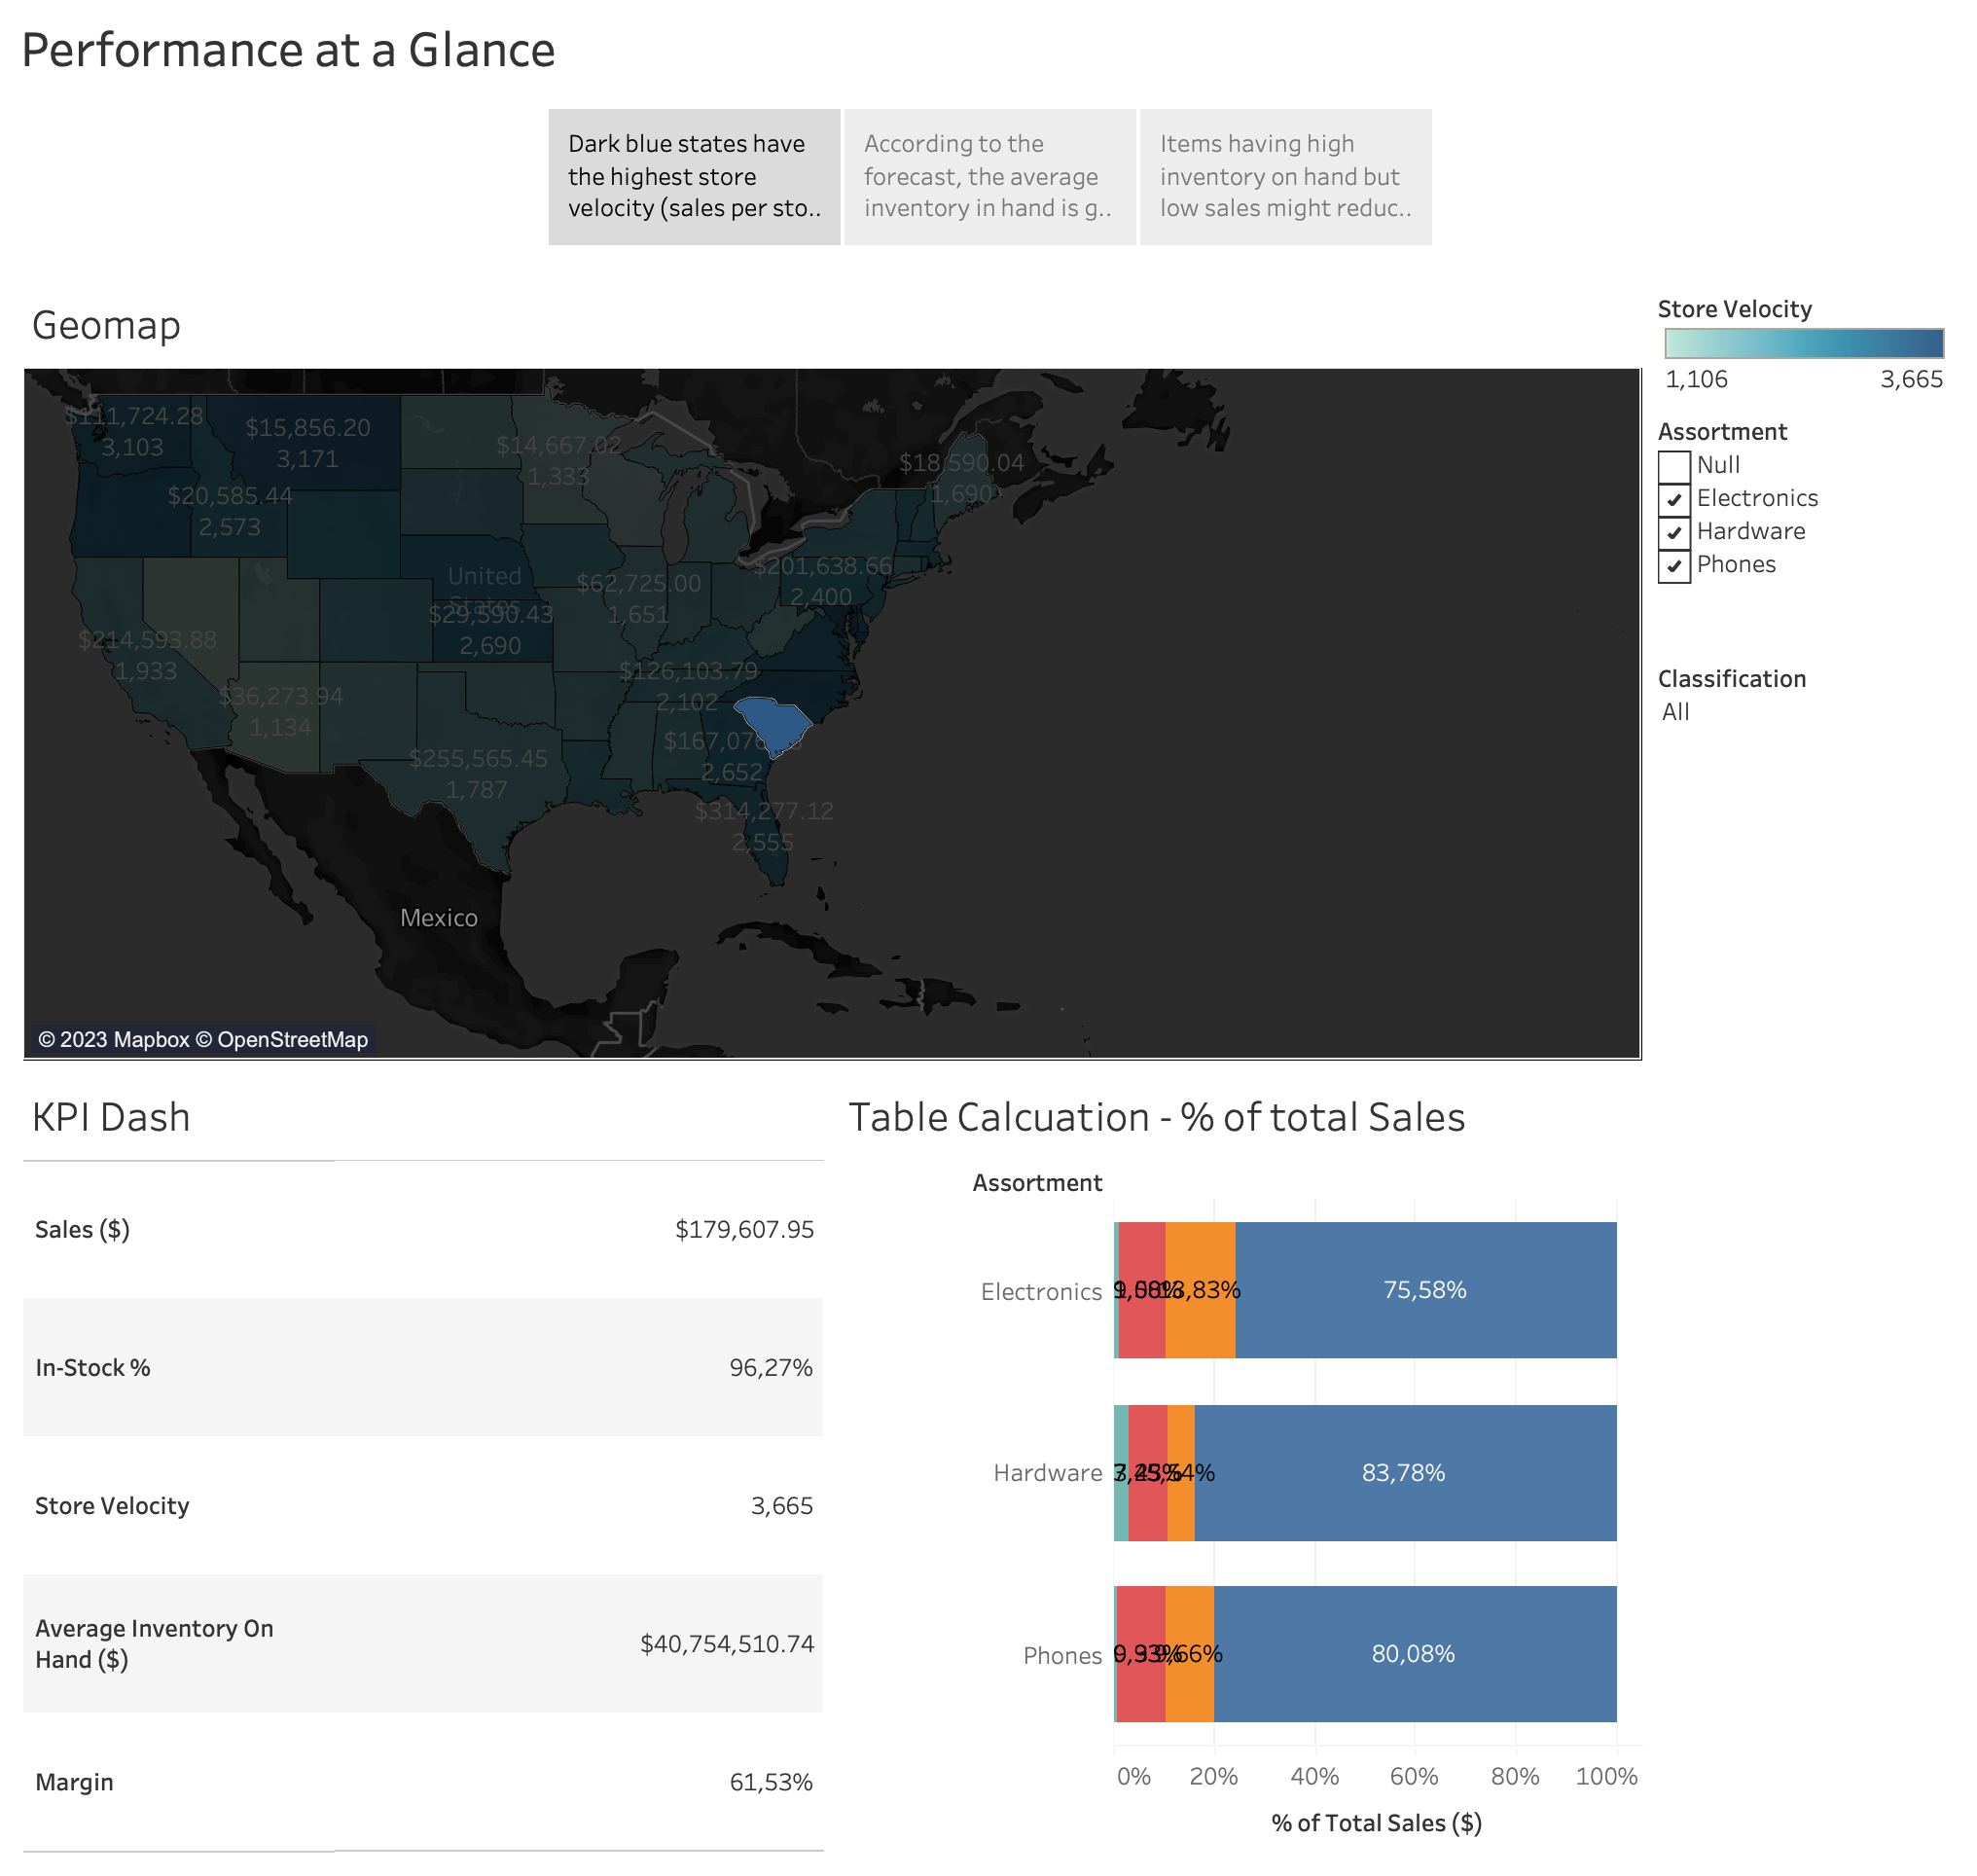

This screenshot's page, from the dashboard's own definition file:
{"tool":"tableau","page":{"name":"Sales Dashboard","canvas":[1000,1000],"units":"permille","ordinal":1},"visuals":[{"type":"worksheet","title":"Geomap","mark":"Multipolygon","box":[0,0,873.6,500]},{"type":"legend","title":"Geomap","param":"[federated.1tcmah61hcjdao0zsqtpu1oh8hsa].[sum:Calculation_3140345998630383616:qk","box":[873.6,0,126.4,80.4]},{"type":"filter","title":"KPI Dash","param":"[federated.1i29ruk11pi2j81aj9rni1uf1muu].[none:Assortment:nk]","box":[873.6,80.4,126.4,157.2]},{"type":"filter","title":"Table Calcuation - % of total Sales","param":"[federated.1tcmah61hcjdao0zsqtpu1oh8hsa].[none:Classification:nk]","box":[873.6,237.6,126.4,92.8]},{"type":"blank","box":[746.9,269.8,134.9,74.3]},{"type":"worksheet","title":"KPI Dash","mark":"Automatic","box":[0,500,436.8,500]},{"type":"worksheet","title":"Table Calcuation - % of total Sales","mark":"Automatic","rows":["Assortment"],"box":[436.8,500,436.9,500]}]}

Visuals, with their boxes on the dashboard's canvas, which has no fixed pixel size, in thousandths of its width and height (x1, y1, x2, y2). These are canvas units, not pixel positions in the 1977x1876 screenshot, which may show the page scaled, cropped or inside an application window:
"Geomap" worksheet (Multipolygon marks): pyautogui.locateOnScreen(0, 0, 874, 500)
"Geomap" legend: pyautogui.locateOnScreen(874, 0, 1000, 80)
"KPI Dash" filter: pyautogui.locateOnScreen(874, 80, 1000, 238)
"Table Calcuation - % of total Sales" filter: pyautogui.locateOnScreen(874, 238, 1000, 330)
blank: pyautogui.locateOnScreen(747, 270, 882, 344)
"KPI Dash" worksheet: pyautogui.locateOnScreen(0, 500, 437, 1000)
"Table Calcuation - % of total Sales" worksheet: pyautogui.locateOnScreen(437, 500, 874, 1000)
